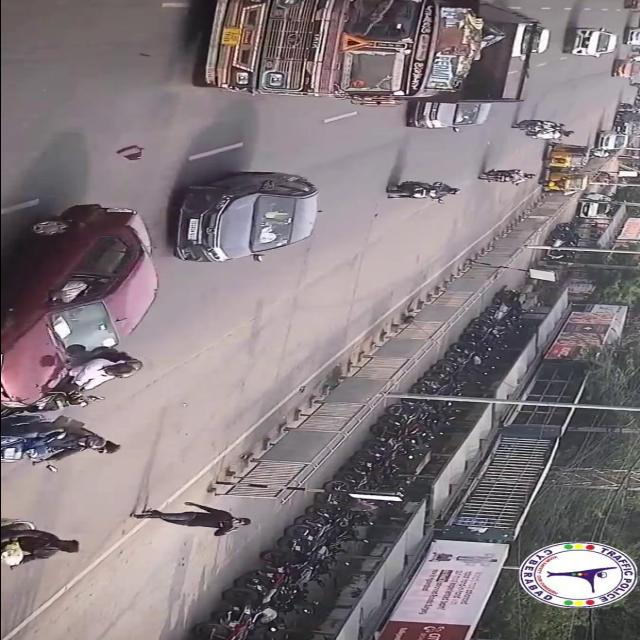accident: (0, 200, 161, 416)
non_accident: (172, 0, 548, 132), (589, 111, 640, 153), (508, 117, 577, 143)
